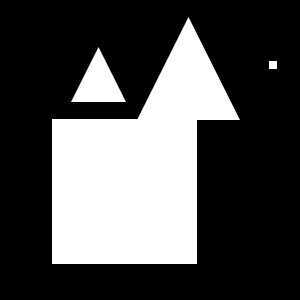circle: (52, 119, 197, 264), (96, 171, 170, 245), (269, 61, 277, 69)
triangle: (137, 17, 240, 120), (71, 47, 126, 102)
